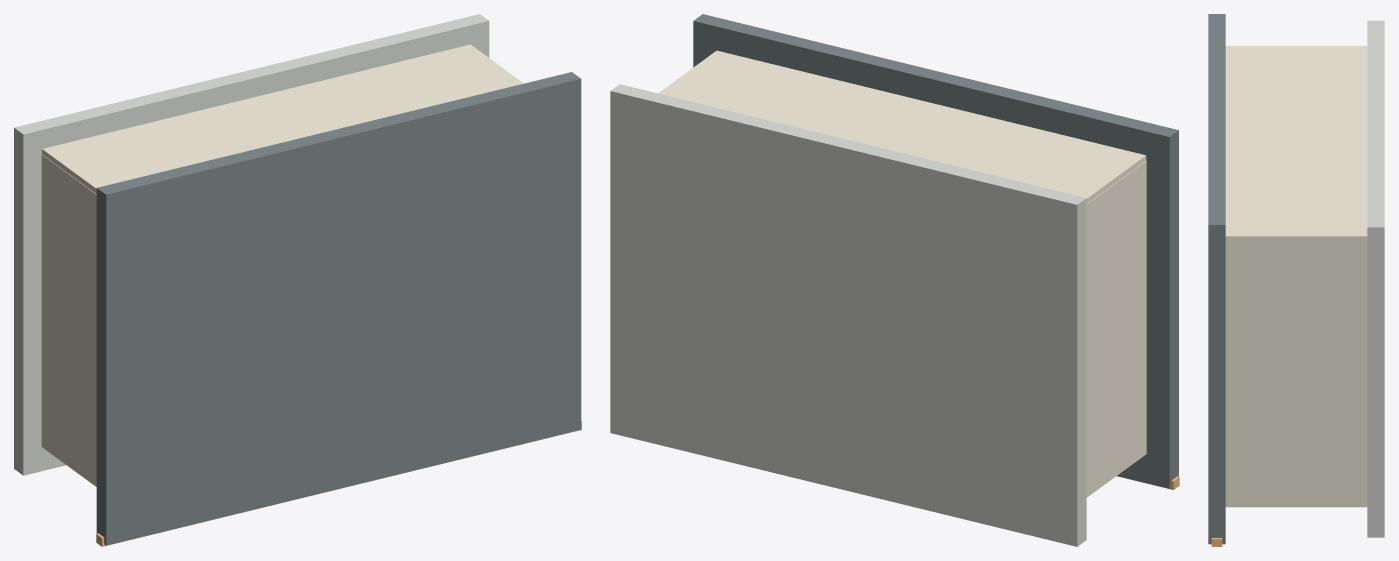
Rendered from gym_lowpoly.glb.
3 renders of one model, left to right at view 1: azimuth 30°, elevation 25°; view 2: azimuth 150°, elevation 25°; view 3: azimuth 270°, elevation 25°, orthographic. The views are drawn at different scales.
Parts seen in each view (by area): view 1: roof, foundation, back_wall, left_wall; view 2: foundation, roof, back_wall, left_wall; view 3: right_wall, back_wall, roof, foundation.
Boxes of the visible parts, left/top/right/bottom form: roof: left=96, top=72, right=581, bottom=545; foundation: left=14, top=14, right=489, bottom=475; back_wall: left=42, top=44, right=523, bottom=193; left_wall: left=41, top=154, right=96, bottom=486; foundation: left=610, top=84, right=1086, bottom=546; roof: left=693, top=14, right=1178, bottom=488; back_wall: left=658, top=50, right=1146, bottom=203; left_wall: left=1086, top=160, right=1146, bottom=497; right_wall: left=1225, top=241, right=1367, bottom=507; back_wall: left=1225, top=46, right=1367, bottom=241; roof: left=1208, top=14, right=1225, bottom=544; foundation: left=1367, top=20, right=1384, bottom=537.
Size of the model in its own units: 10.3 by 7.24 by 3.6.
